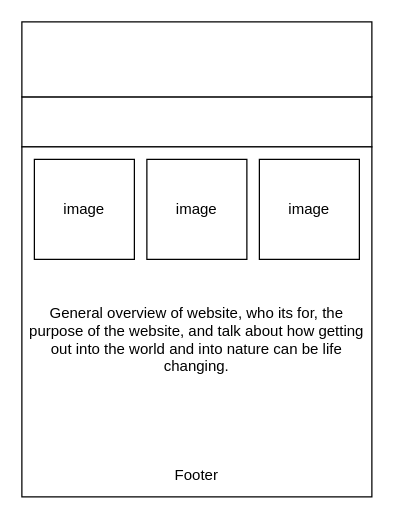
Some shapes in this 394 by 519 pixel diagram are drawn without their labels. The shapes that lost their labels are listed below. From the top down, each one's centre as x and y in pixels, then its label:
the point at 196,59: Life Through The Lens
the point at 196,121: About ~ US Gallery ~ Global Gallery ~ Review Form
